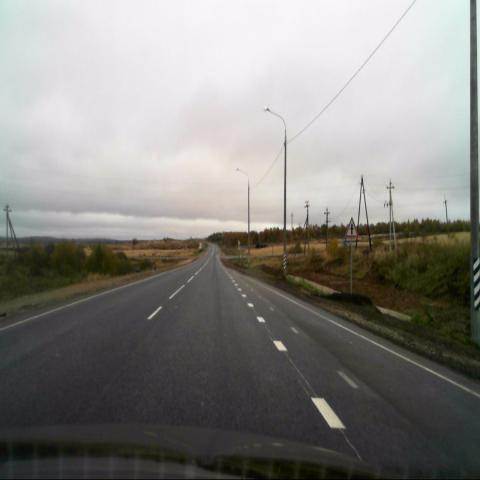2_3: (346, 217, 358, 237)
